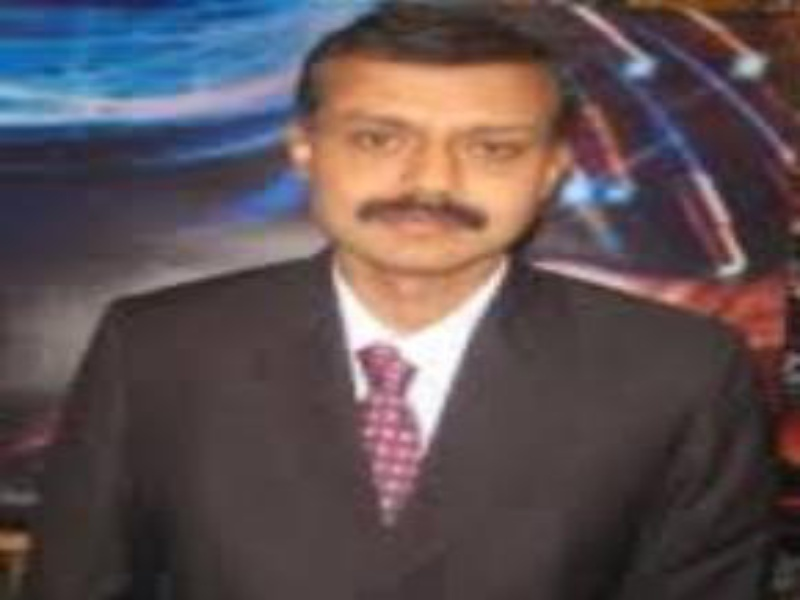TsisyArotava: (267, 3, 596, 327)
